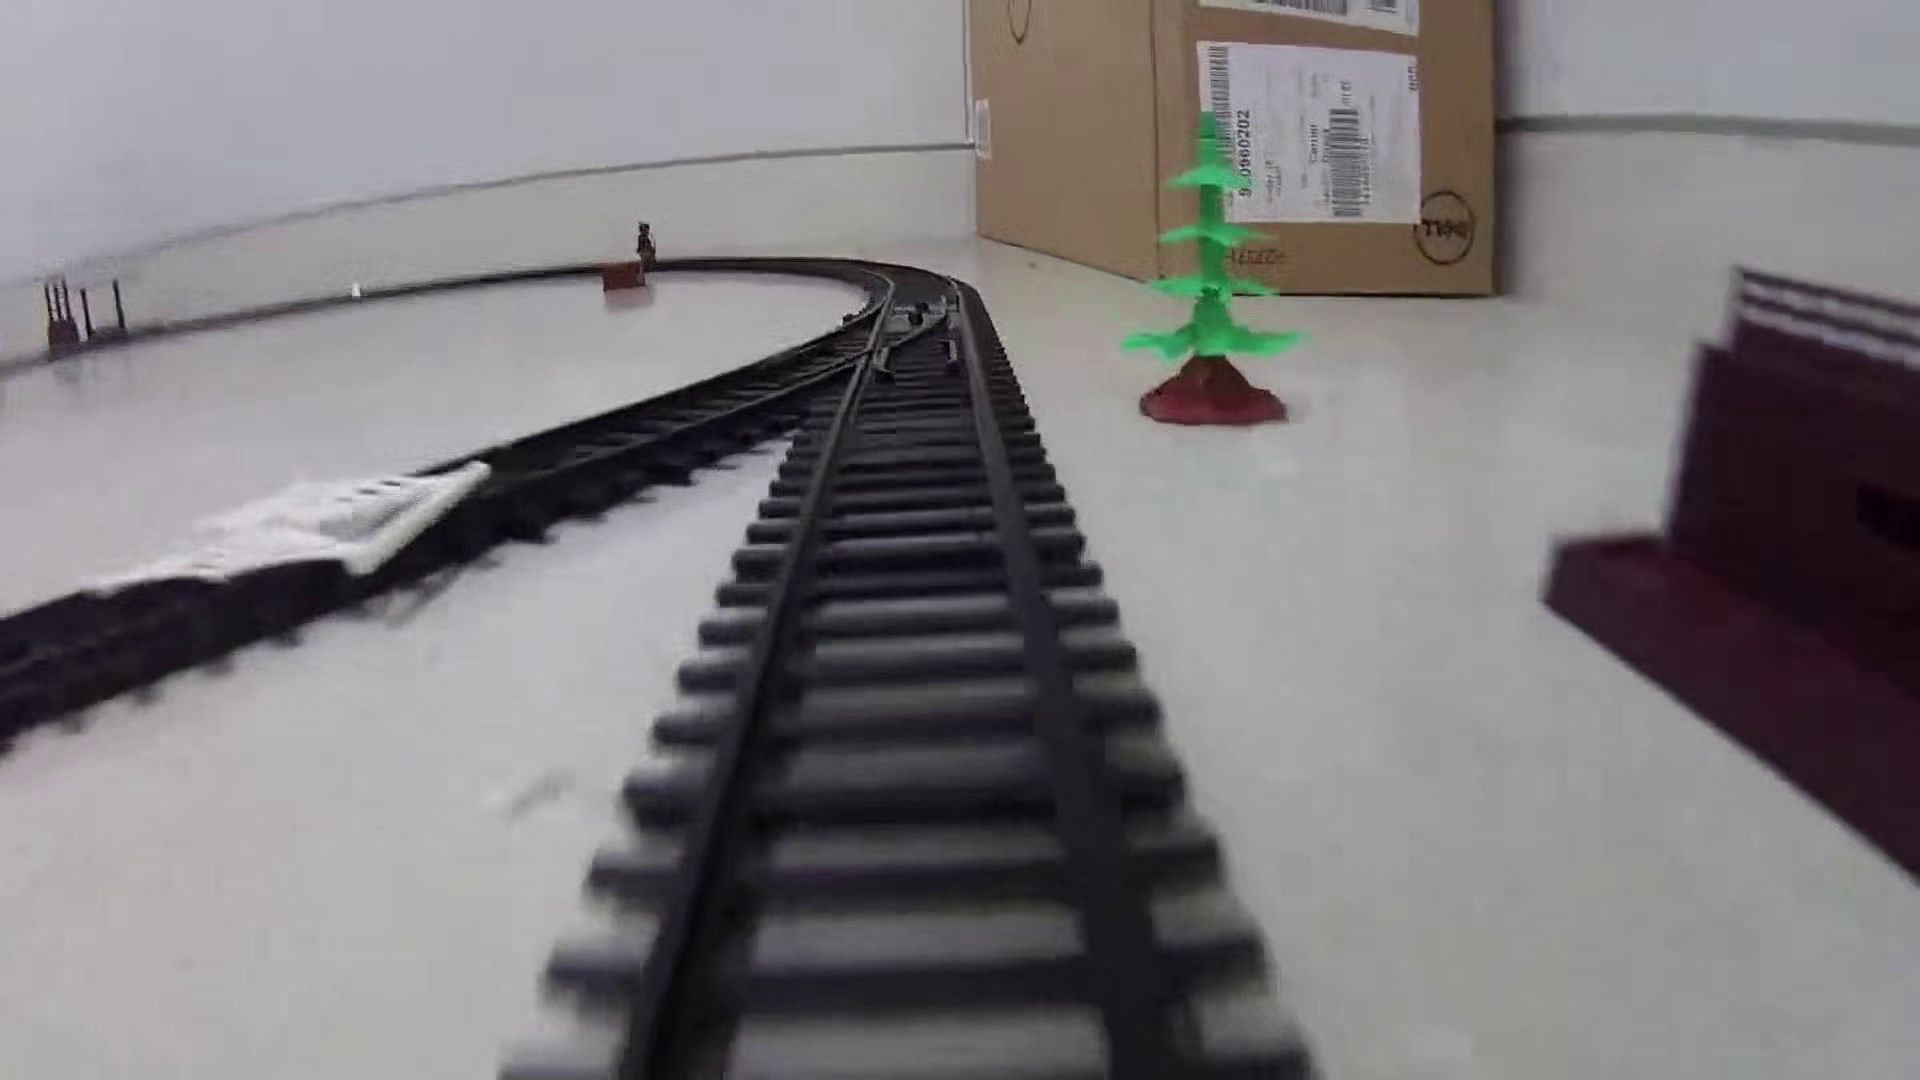people: (633, 219, 657, 268)
tree: (1121, 115, 1303, 432)
web: (64, 450, 492, 600)
